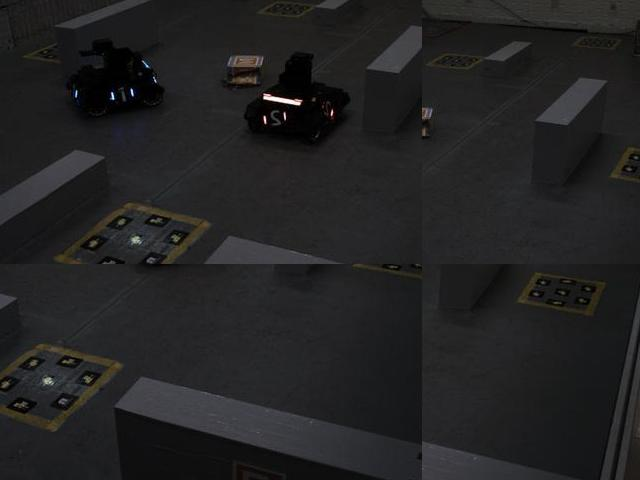armor: (259, 107, 296, 133), (104, 82, 140, 105), (321, 95, 340, 124)
